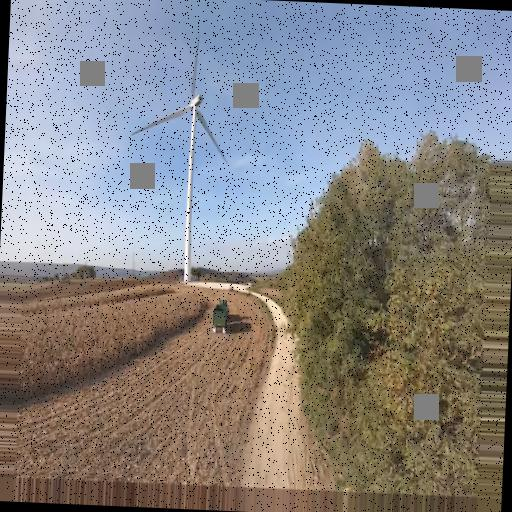wind turbine: (129, 33, 228, 284)
